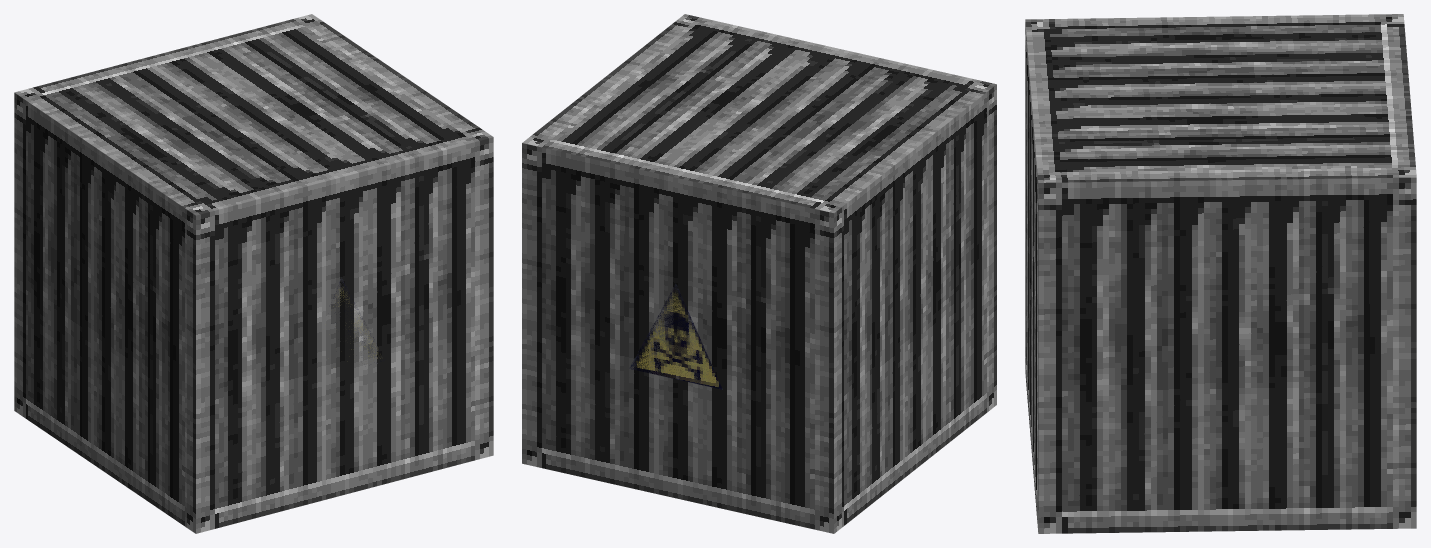
Rendered from primary_095.glb.
3 renders of one model, left to right at view 1: azimuth 30°, elevation 25°; view 2: azimuth 150°, elevation 25°; view 3: azimuth 270°, elevation 25°, orthographic. The views are drawn at different scales.
Visible parts, largest first — view 1: Object; view 2: Object; view 3: Object.
Boxes of the visible parts, x1,y1,x2,y2 form: Object: (14,14,493,533); Object: (522,14,996,533); Object: (1025,14,1416,533).
Size of the model in its own units: 1.4 by 1.36 by 1.37.
2 materials, 2 textured.
